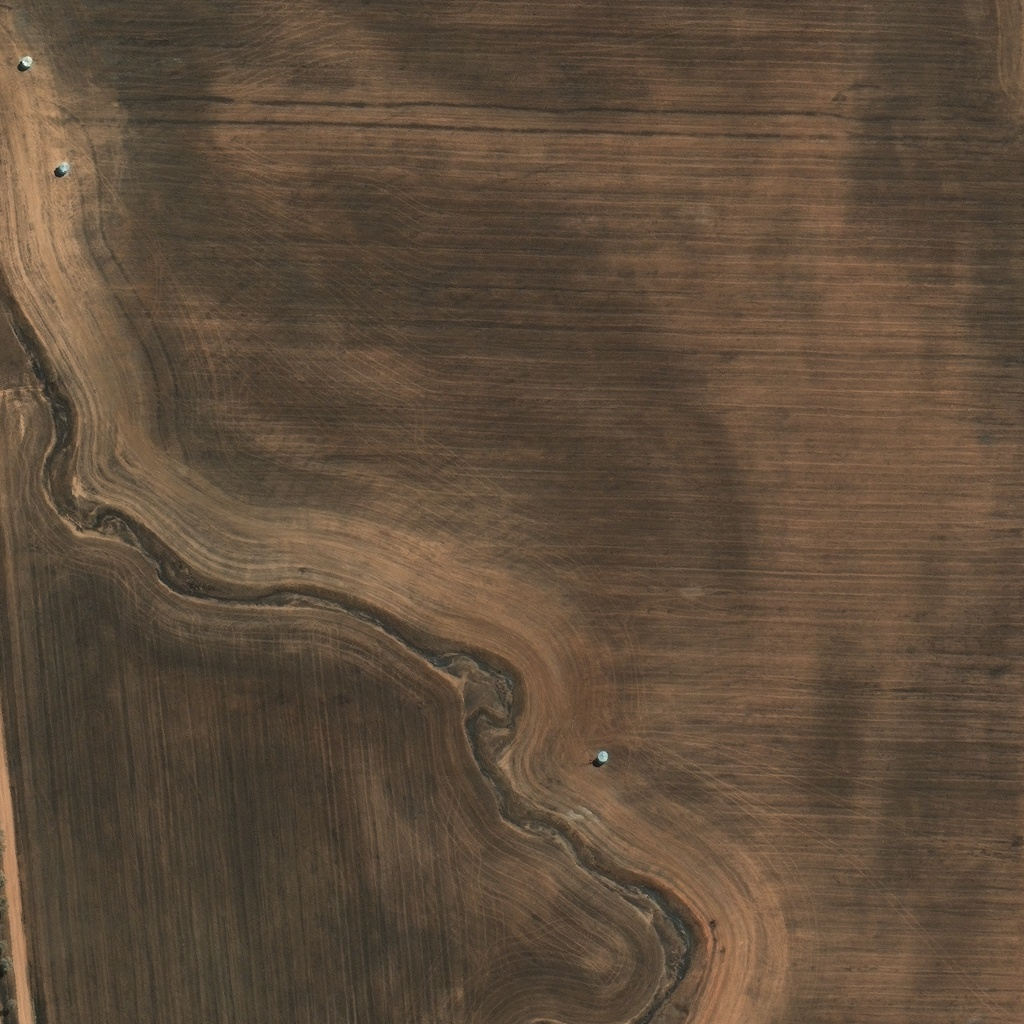4 un-classified: (0, 4, 6, 13)
